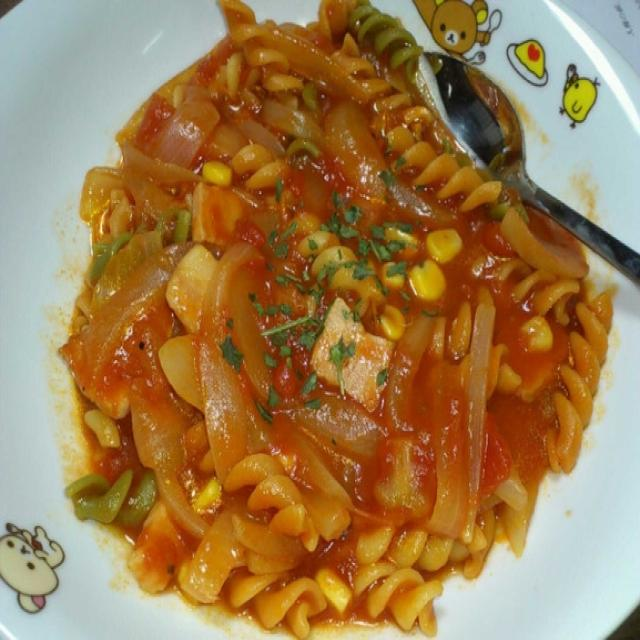汤锅炖物: (15, 11, 628, 610)
